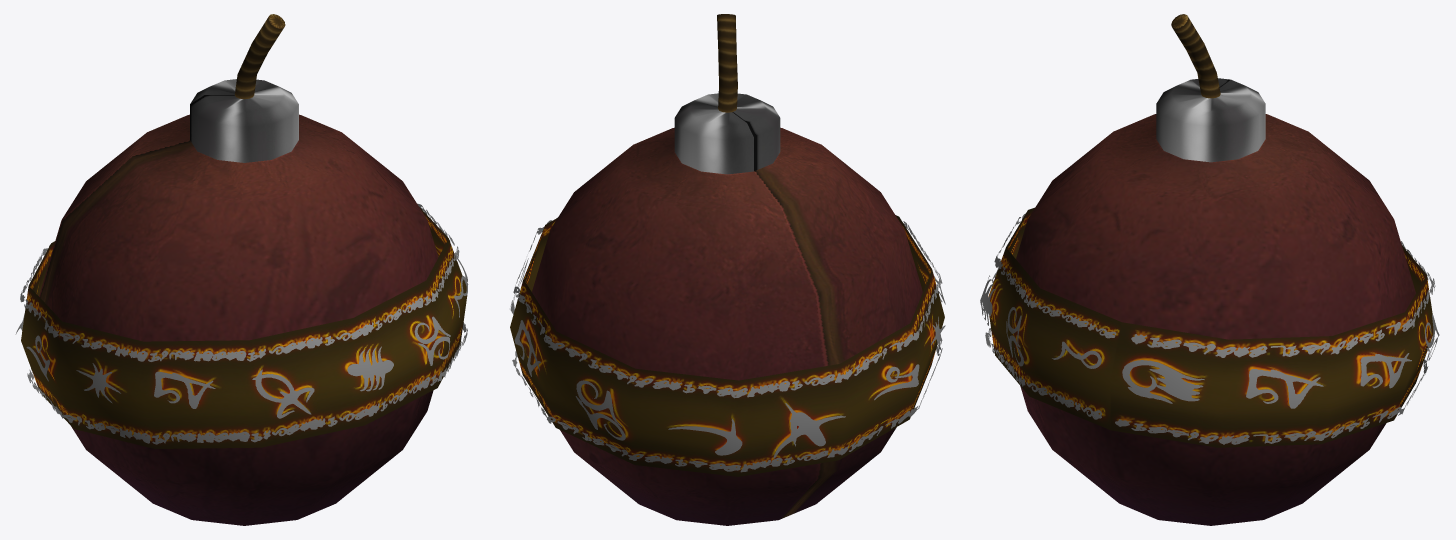
Rendered from Bomb.FBX.
The picture shows the model from 3 angles, left to right: view 1: azimuth 30°, elevation 25°; view 2: azimuth 150°, elevation 25°; view 3: azimuth 270°, elevation 25°; orthographic projection. The views are drawn at different scales.
Visible parts, largest first — view 1: Bomb, Runes, Runes001; view 2: Bomb, Runes, Runes001; view 3: Bomb, Runes, Runes001.
Part boxes in pixels (x1=…): Bomb: x1=39, y1=14, x2=438, y2=525; Runes: x1=21, y1=207, x2=467, y2=448; Runes001: x1=15, y1=203, x2=468, y2=444; Bomb: x1=532, y1=14, x2=922, y2=525; Runes: x1=510, y1=215, x2=944, y2=476; Runes001: x1=510, y1=217, x2=945, y2=472; Bomb: x1=1016, y1=14, x2=1415, y2=525; Runes: x1=988, y1=207, x2=1433, y2=447; Runes001: x1=980, y1=213, x2=1439, y2=444.
Bounding box in the file's own units: 99.52 × 118 × 99.24.
